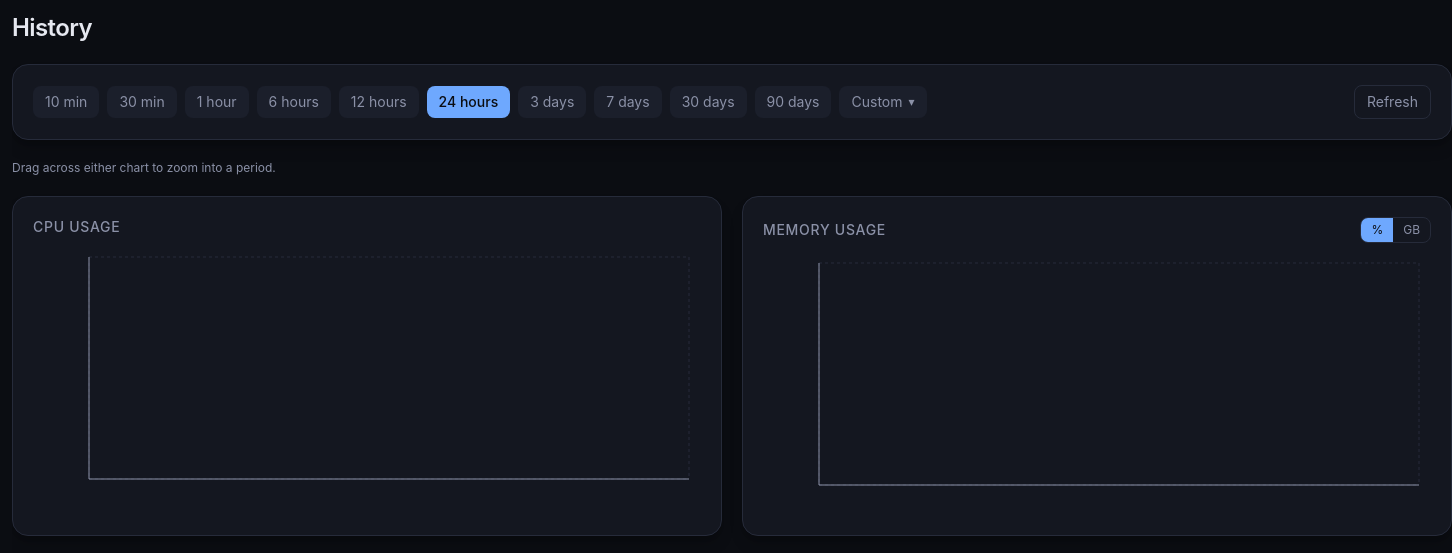
Test case: History › toggles memory between percent and absolute value
Expected: the element with test id "chart-memPct" is shown, [763,259,1431,515]
Click the button "GB" at (1412, 230), box [1393,218,1430,242]
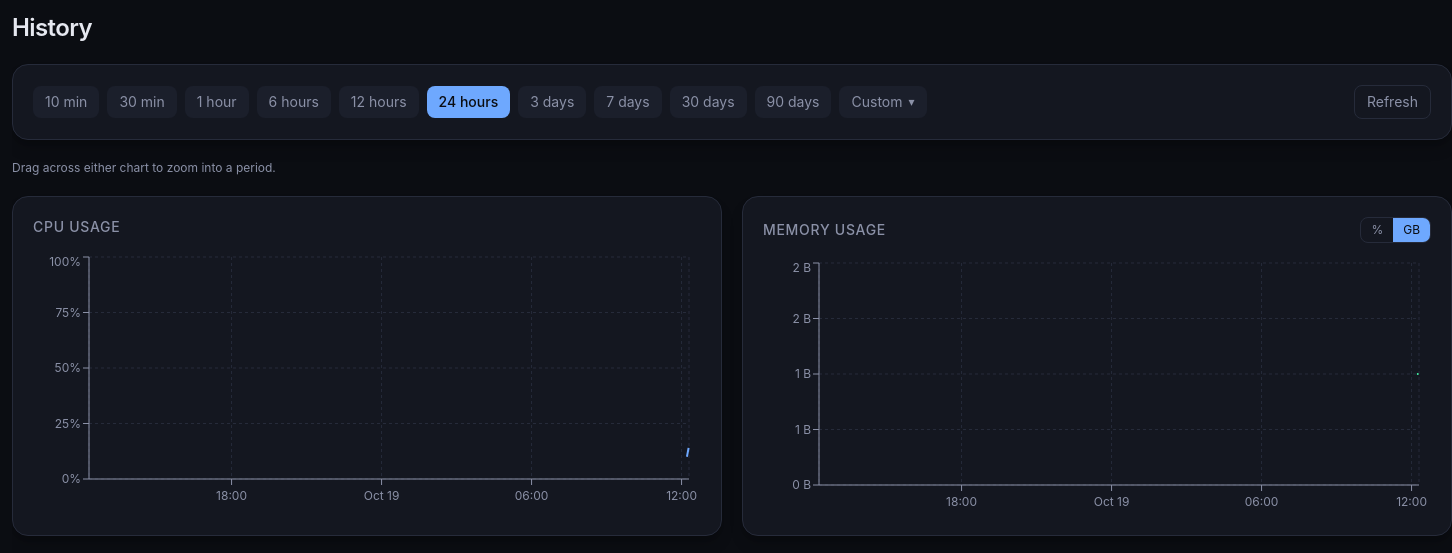
Expected: the element with test id "chart-cpuPct" is shown, [33,253,701,509]
Expected: the element with test id "chart-memUsed" is shown, [763,259,1431,515]
Click the button "%" at (1377, 230), box [1361,218,1393,242]
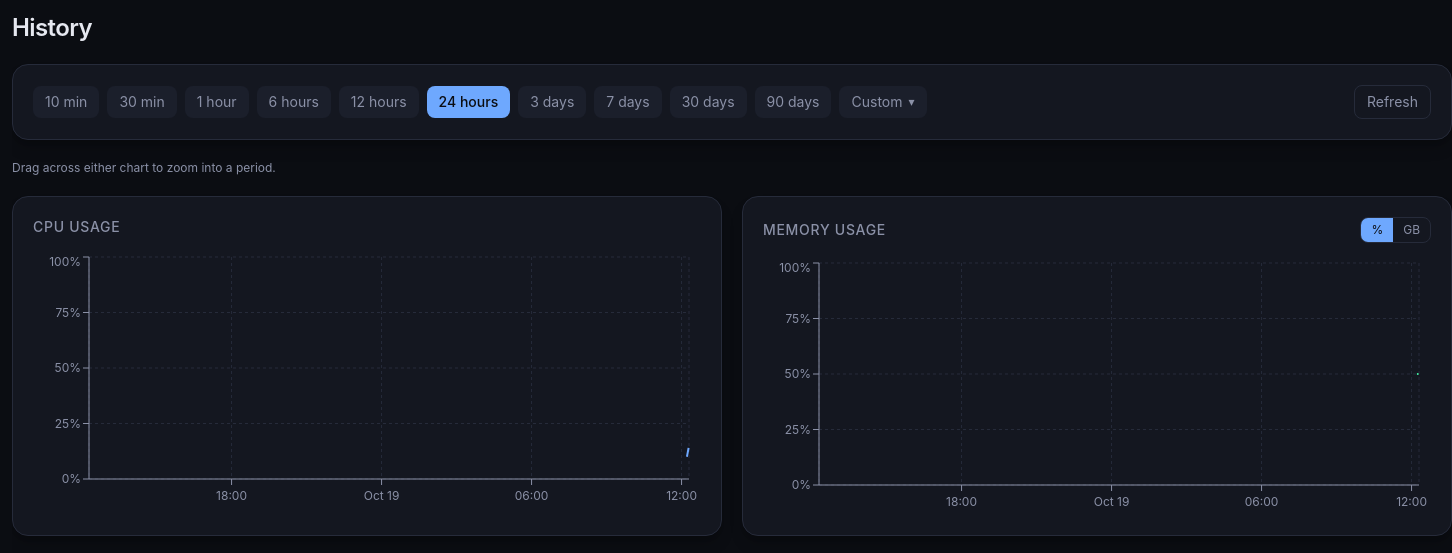
Expected: the element with test id "chart-memPct" is shown, [763,259,1431,515]
